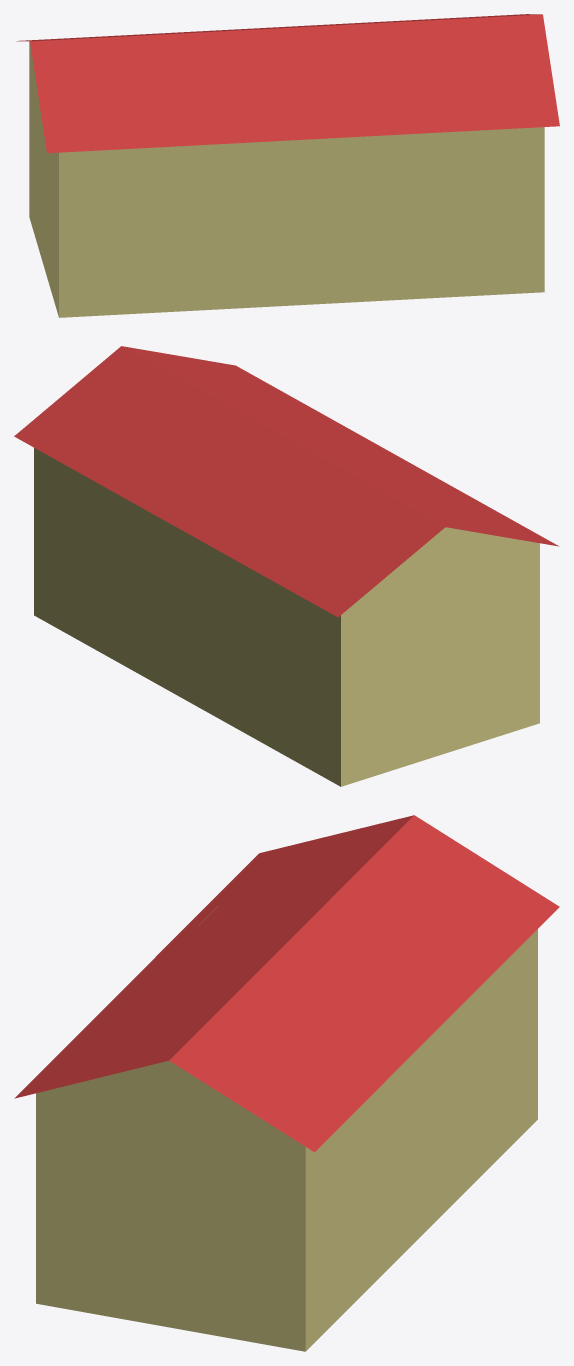
The picture shows the model from 3 angles, top to bottom: view 1: azimuth 30°, elevation 25°; view 2: azimuth 150°, elevation 25°; view 3: azimuth 270°, elevation 25°; orthographic projection. The views are drawn at different scales.
Bounding box in the file's own units: 21.03 × 16.22 × 9.
